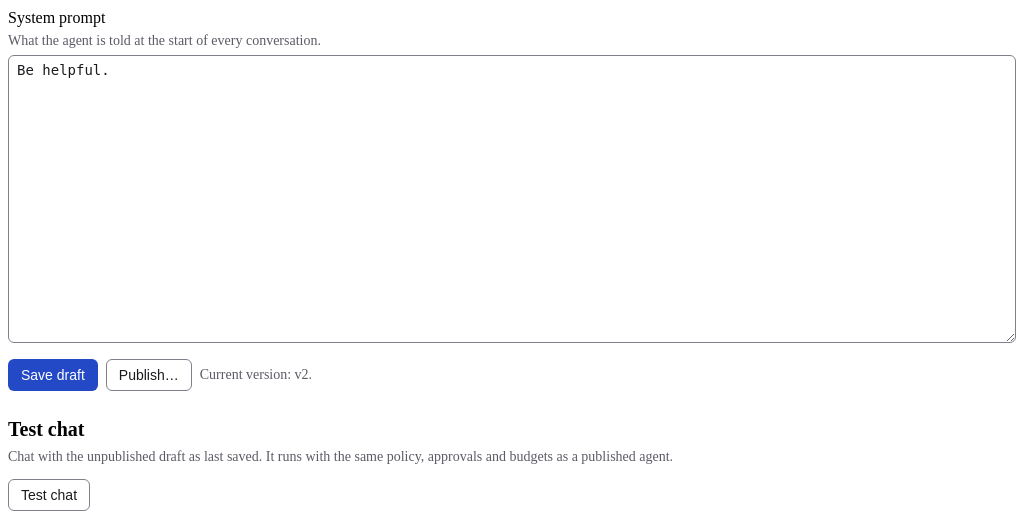
it: Agent builder: edit and publish › says which named team skills a publish left out (KOBE-318)
(page scrolled)
Click the button "Publish…".
click(149, 374)  # box [106,358,192,390]
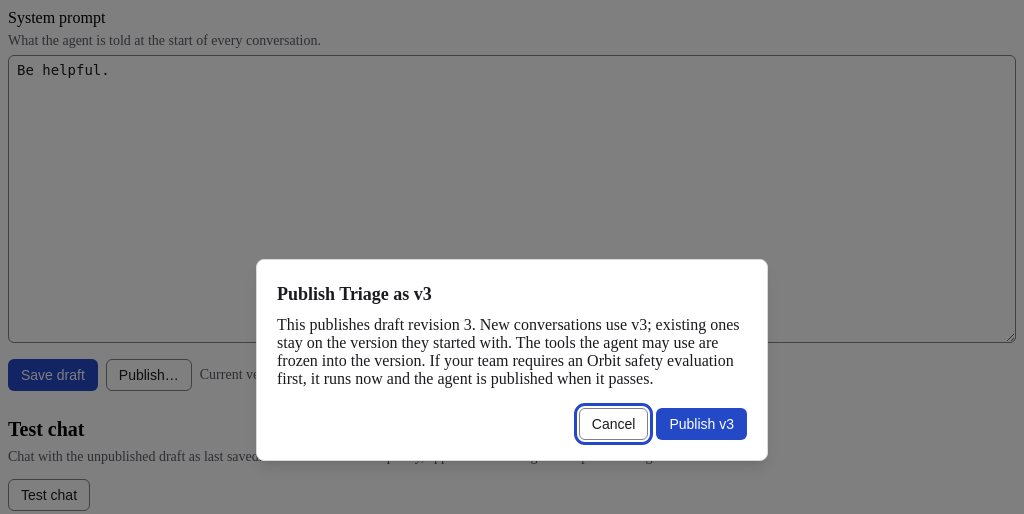
Click the button "Publish v3".
click(702, 424)  # box [656,408,747,440]
(page scrolled)
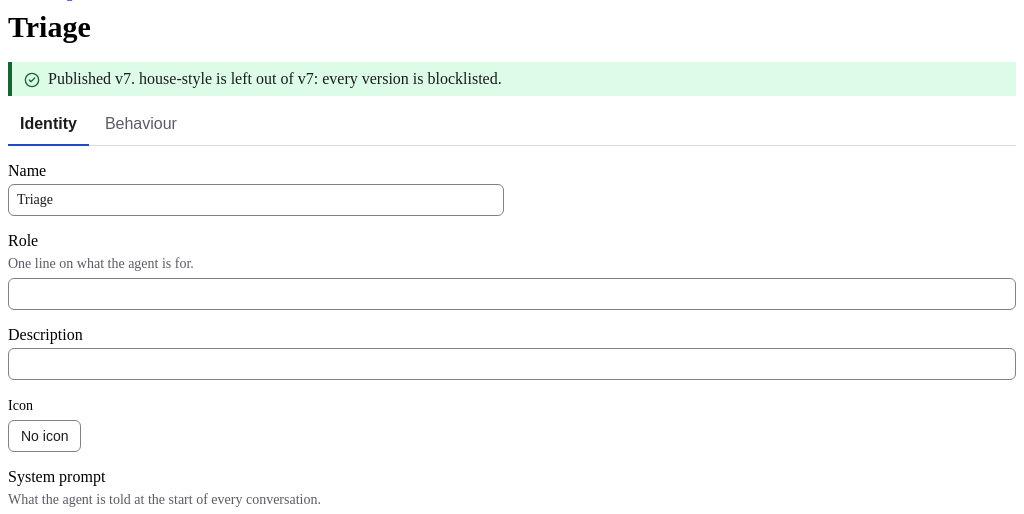
Result: the text "Published v7. house-style is left out of v7: every version is blocklisted." is shown at [48,70,502,86]
